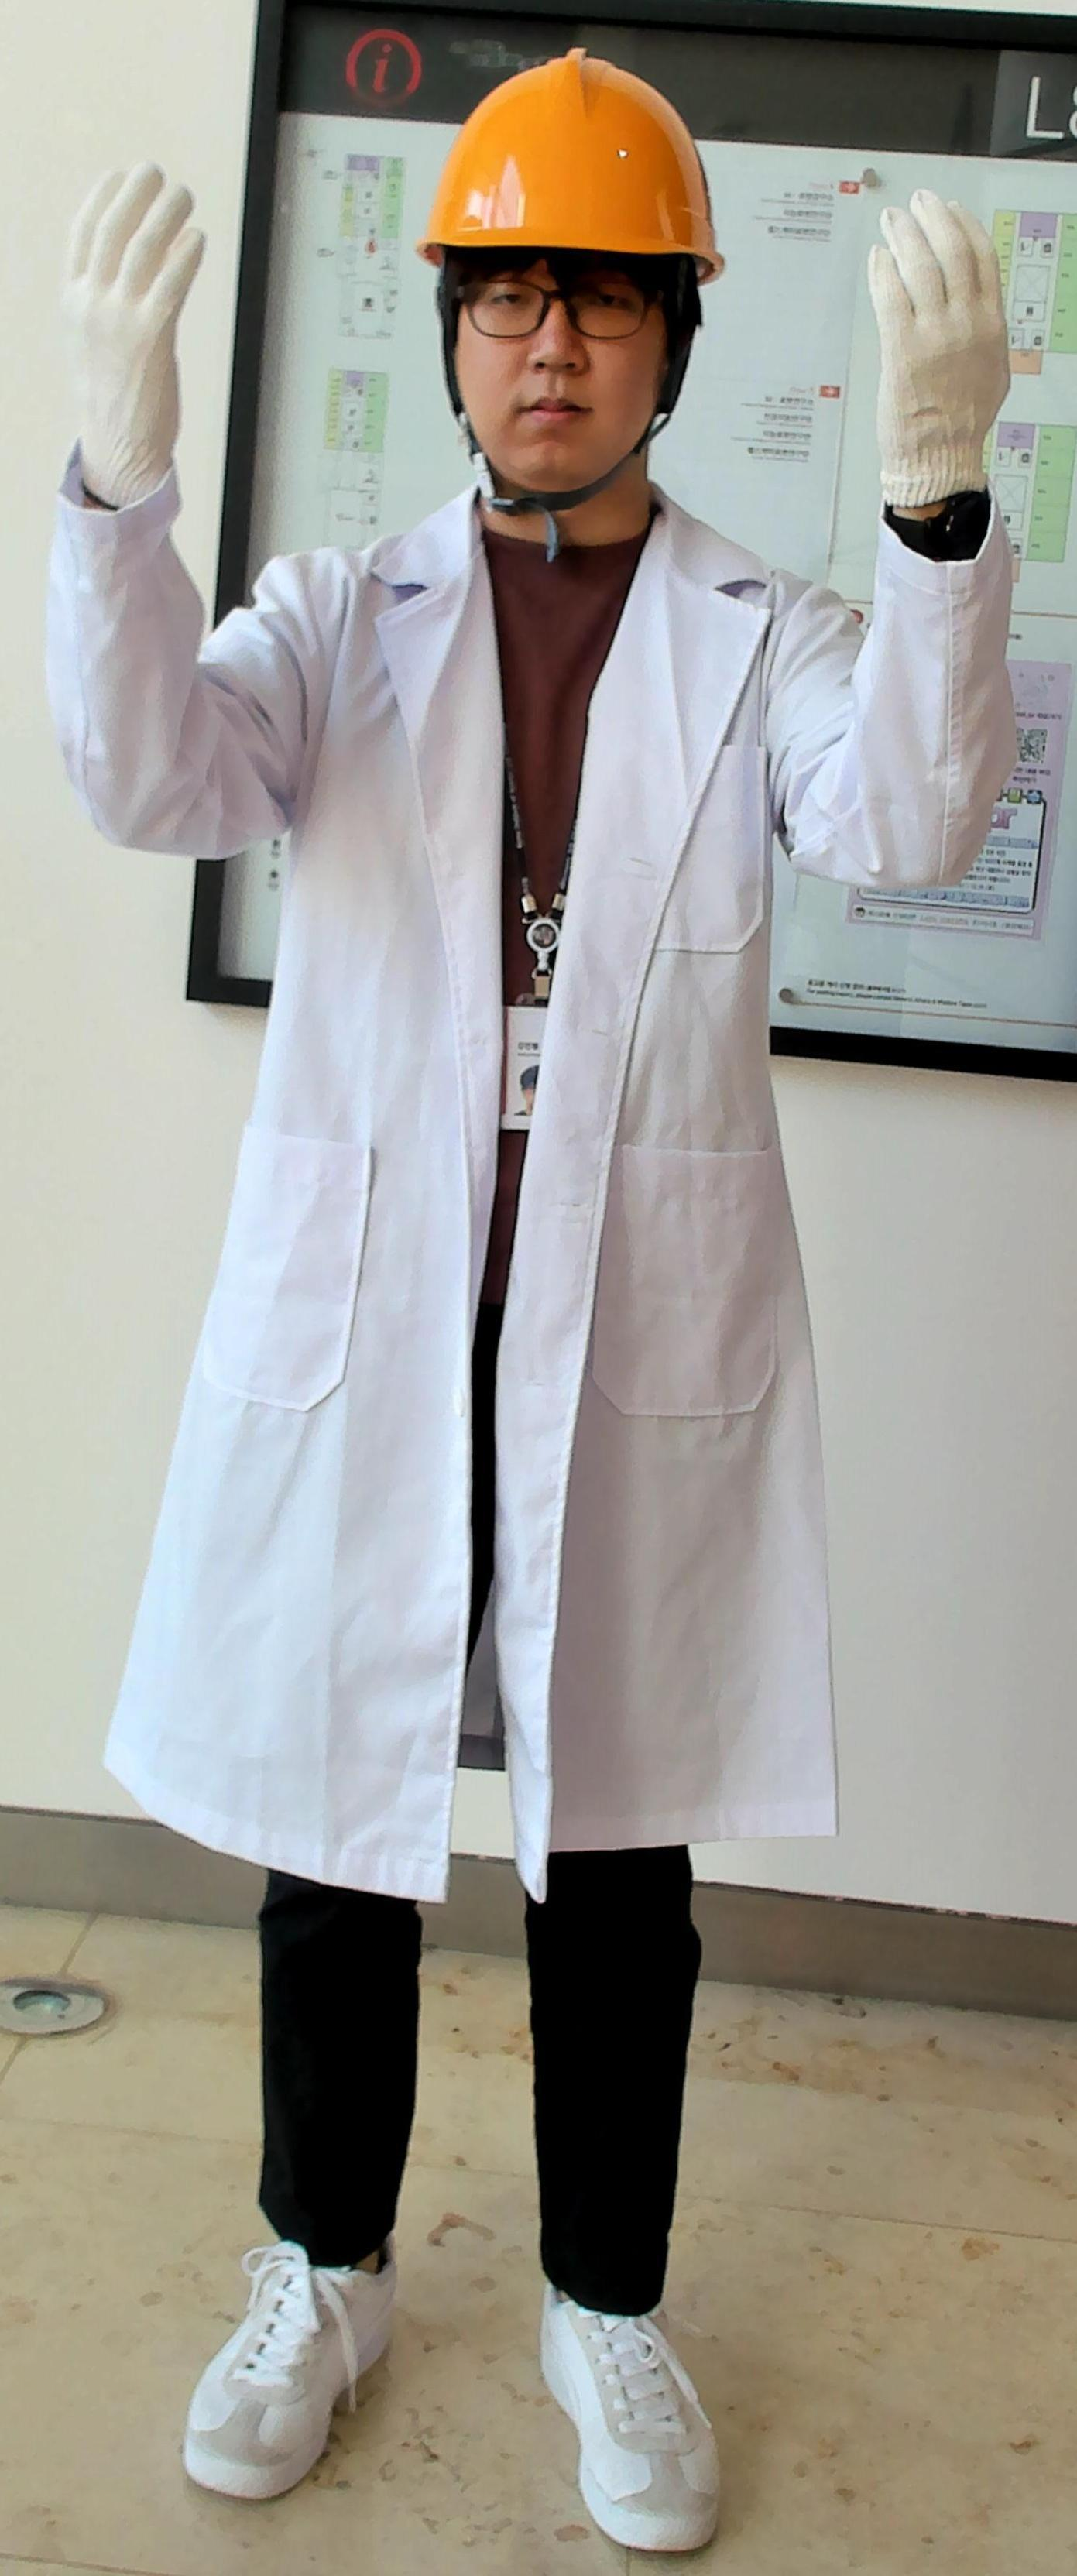lab_coat: (197, 590, 854, 1837)
